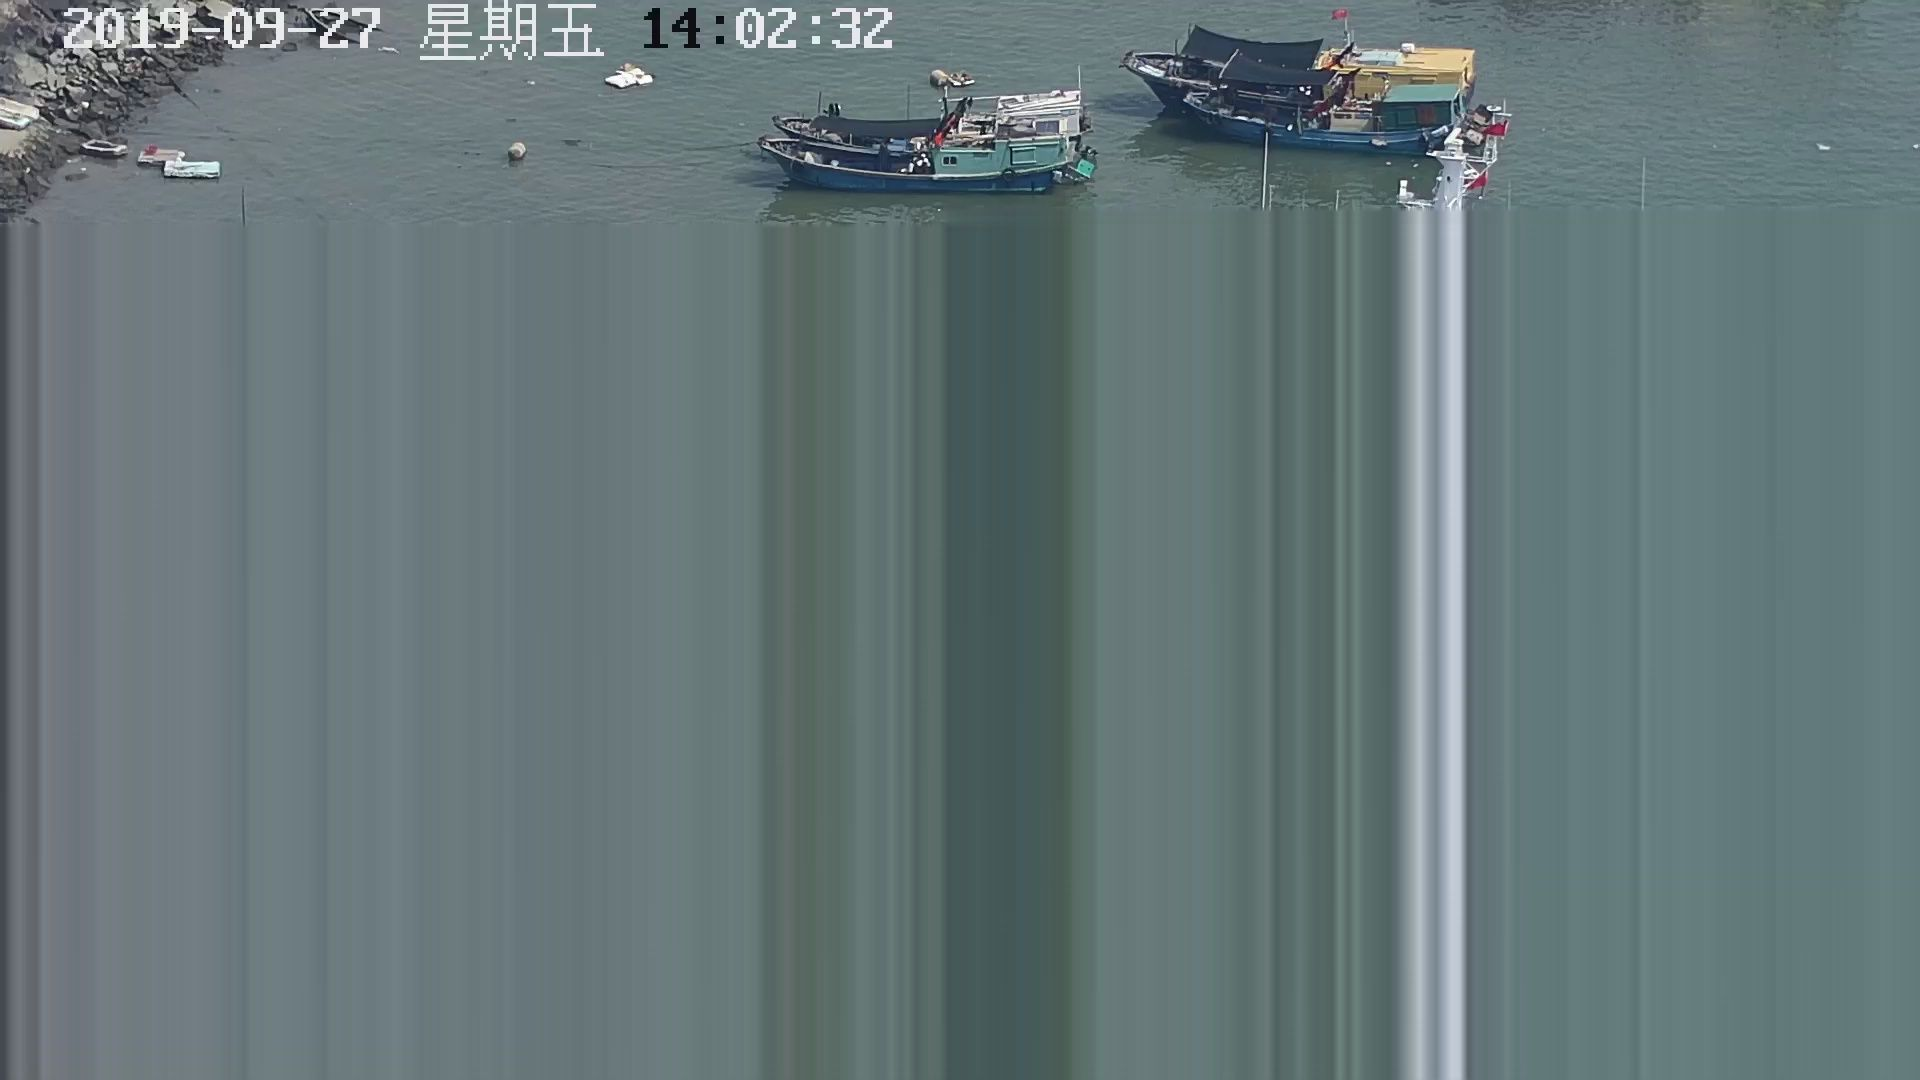ship: (1120, 26, 1487, 158), (757, 80, 1093, 195)
